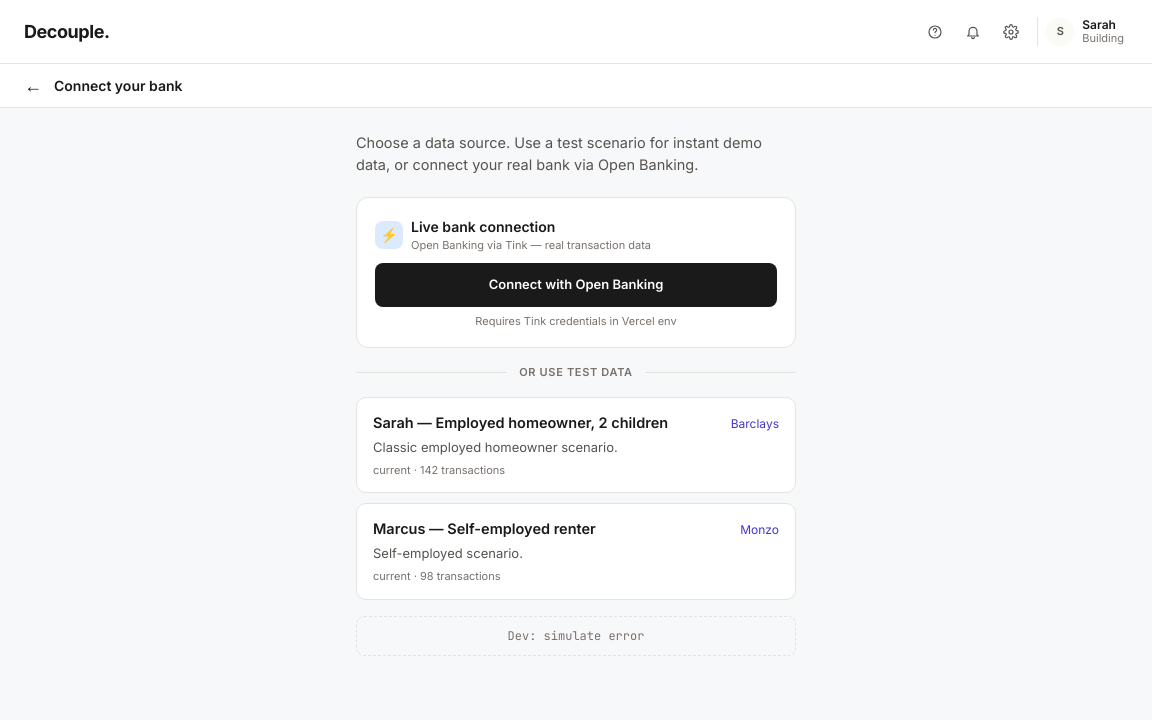
/dev/proto/bank-connect page › shows "Try again" button in error state (AC-4)
The image size is (1152, 720).
Click the button with test id "simulate-error".
click(576, 636)  # box [356, 616, 796, 656]
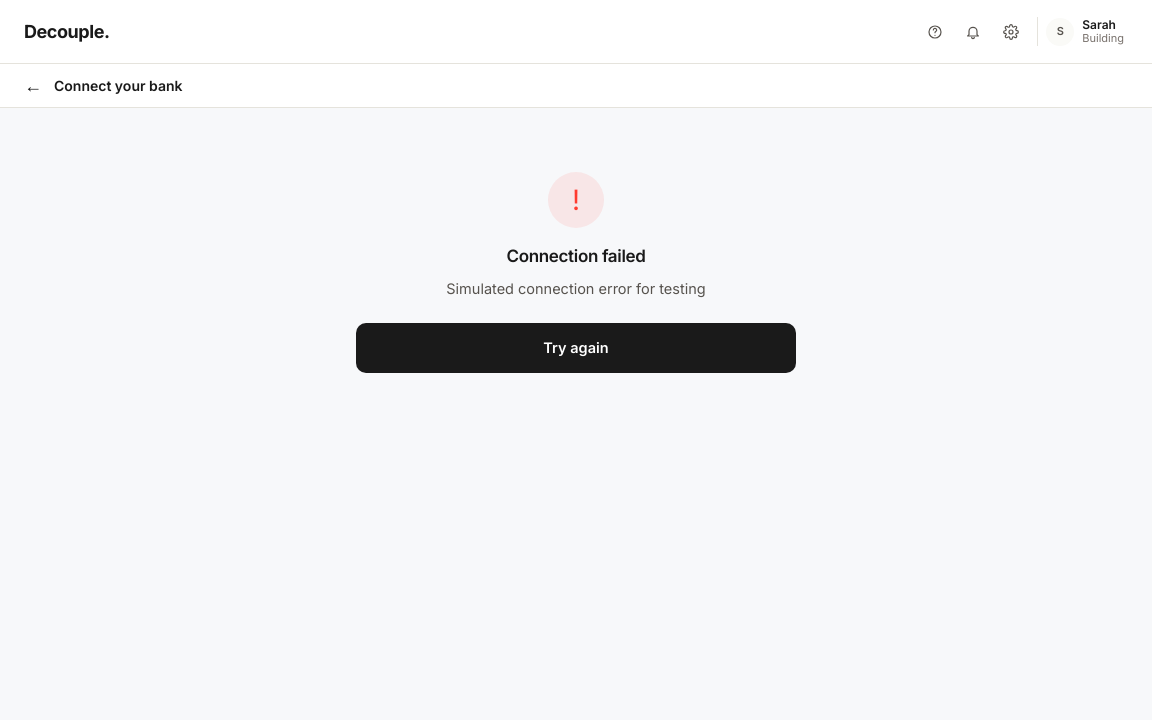
Now the button "Try again" is shown, box [356, 323, 796, 373]
